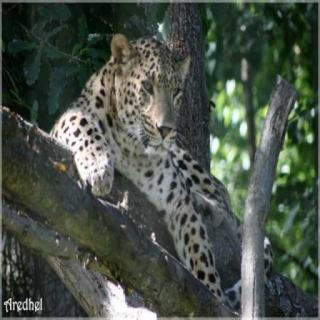Leopard: (44, 47, 246, 306)
